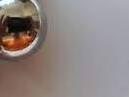ironball: (0, 0, 45, 66)
